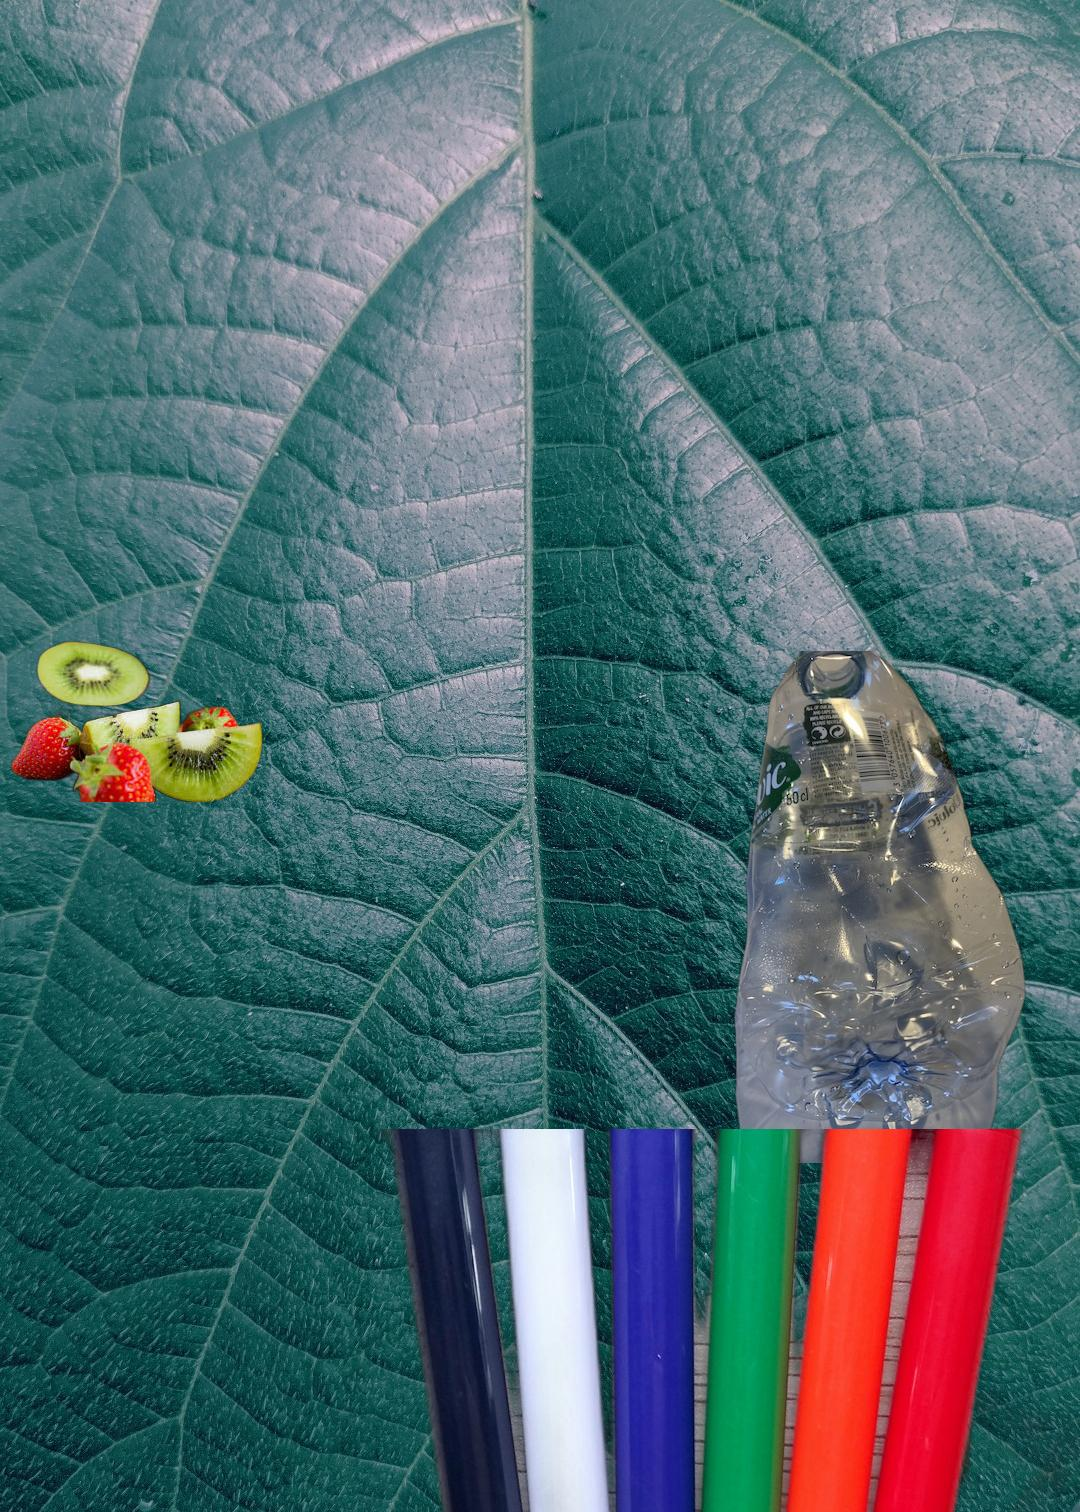biological: (2, 624, 266, 802)
penholder: (369, 1129, 1044, 1512)
plastic-bottles: (731, 651, 1029, 1163)
trashbox-cardboard: (742, 1329, 1080, 1512)
